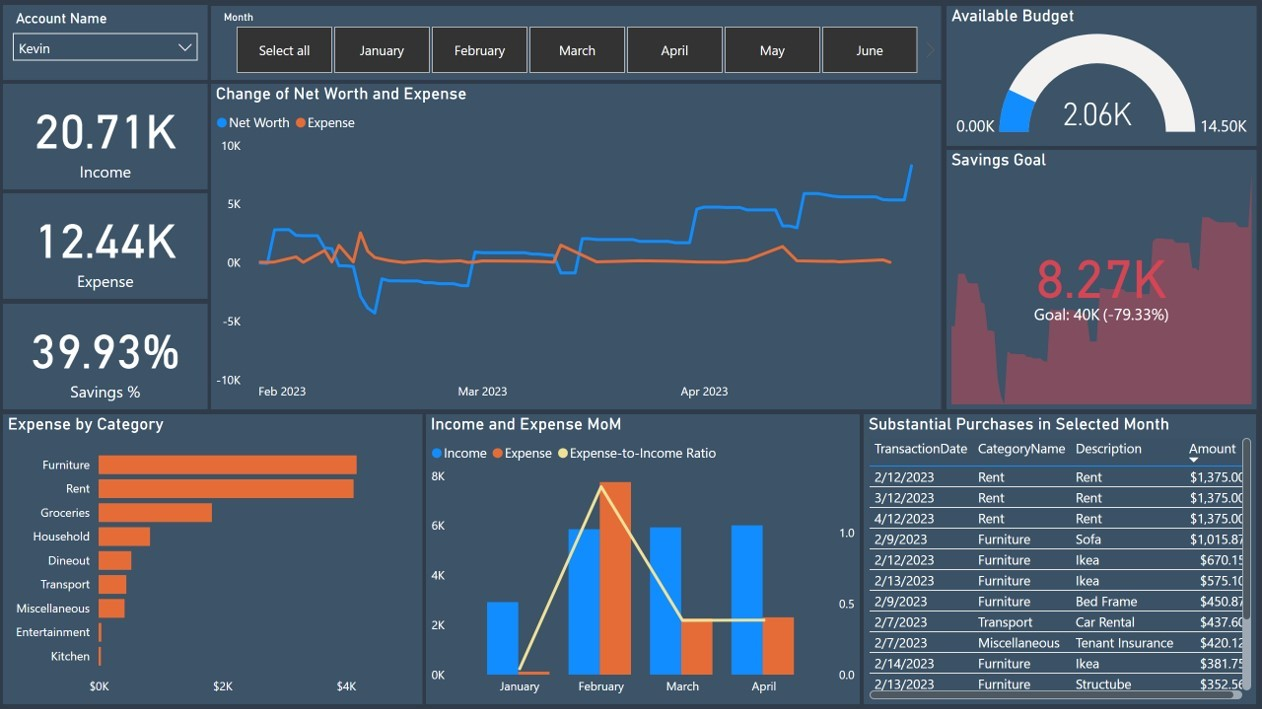

What the dashboard file says about the page in this screenshot:
{"tool":"powerbi","page":{"name":"dashboard","canvas":[1280,720],"ordinal":0},"visuals":[{"type":"card","fields":{"Values":["Date.Total Income"]},"box":[2.9,84.7,207.3,107.1],"z":0},{"type":"card","fields":{"Values":["Date.Total Expense"]},"box":[2.9,196.1,207.3,107.1],"z":1000},{"type":"lineChart","title":"Change of Net Worth and Expense","fields":{"Category":["Date.Date.Variation.Date Hierarchy.Year","Date.Date.Variation.Date Hierarchy.Quarter","Date.Date.Variation.Date Hierarchy.Month","Date.Date.Variation.Date Hierarchy.Day"],"Y":["Date.Cumulative Net Worth","Date.Total Expense"]},"box":[214.1,84.7,740.7,330],"z":2000},{"type":"tableEx","title":"Substantial Purchases in 90 days","fields":{"Values":["bi_table.TransactionDate","bi_table.CategoryName","bi_table.Description","bi_table.Amount"]},"box":[876.1,419.5,398.1,294],"z":3000},{"type":"clusteredBarChart","title":"Expense by Category","fields":{"Category":["bi_table.CategoryName"],"Y":["Sum(bi_table.Amount)"]},"box":[2.9,419.5,425.4,294],"z":4000},{"type":"lineClusteredColumnComboChart","title":"Income and Expense MoM","fields":{"Y2":["Date.Expense-to-Income Ratio"],"Category":["Date.Date.Variation.Date Hierarchy.Month"],"Y":["Date.Total Income","Date.Total Expense"]},"box":[432.2,419.5,440,294],"z":5000},{"type":"gauge","title":"Available Budget","fields":{"MaxValue":["Date.Expected Expense"],"Y":["Date.Available Budget"]},"box":[959.8,5.8,314.4,142],"z":6000},{"type":"kpi","title":"Savings Goal","fields":{"Goal":["Date.Target Savings"],"TrendLine":["Date.Date"],"Indicator":["Date.Cumulative Net Worth"]},"box":[959.8,151.8,314.4,262.8],"z":7000},{"type":"slicer","fields":{"Values":["Date.Month.Variation.Date Hierarchy.Month"]},"box":[214.1,5.8,740.7,75],"z":8000},{"type":"slicer","fields":{"Values":["bi_table.AccountName"]},"box":[2.9,4.9,207.3,75.9],"z":9000},{"type":"card","fields":{"Values":["Date.Savings %"]},"box":[2.9,307.6,207.3,107.1],"z":10000}]}

Visuals, with their boxes in screenshot pixels (x1, y1, x2, y2), scaled from the page's 1280x720 canvas onto the 1262x709 screenshot:
card - Date.Total Income: 3, 83, 207, 189
card - Date.Total Expense: 3, 193, 207, 299
"Change of Net Worth and Expense" lineChart: 211, 83, 941, 408
"Substantial Purchases in 90 days" tableEx: 864, 413, 1256, 703
"Expense by Category" clusteredBarChart: 3, 413, 422, 703
"Income and Expense MoM" lineClusteredColumnComboChart: 426, 413, 860, 703
"Available Budget" gauge: 946, 6, 1256, 146
"Savings Goal" kpi: 946, 149, 1256, 408
slicer - Date.Month.Variation.Date Hierarchy.Month: 211, 6, 941, 80
slicer - bi_table.AccountName: 3, 5, 207, 80
card - Date.Savings %: 3, 303, 207, 408
